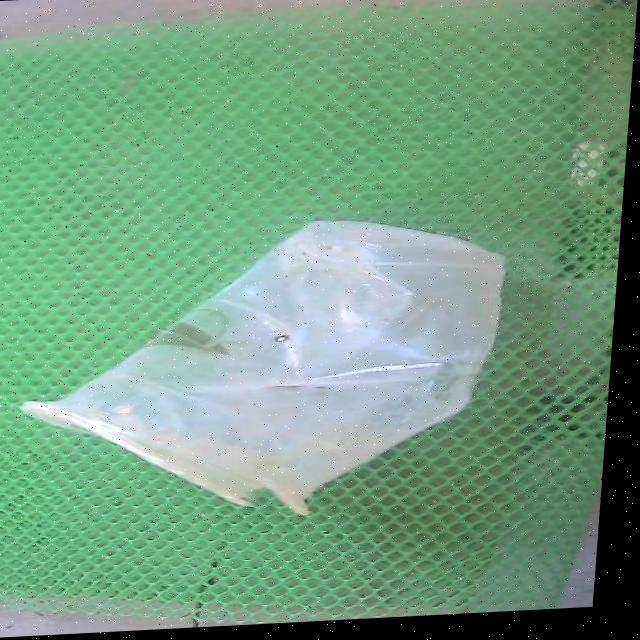cup: (27, 224, 508, 517)
